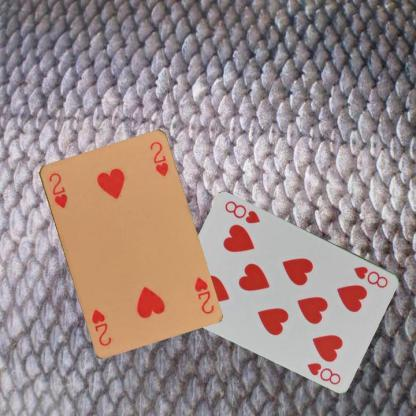2h: (191, 274, 215, 315), (46, 170, 69, 210)
8h: (352, 264, 390, 290)
